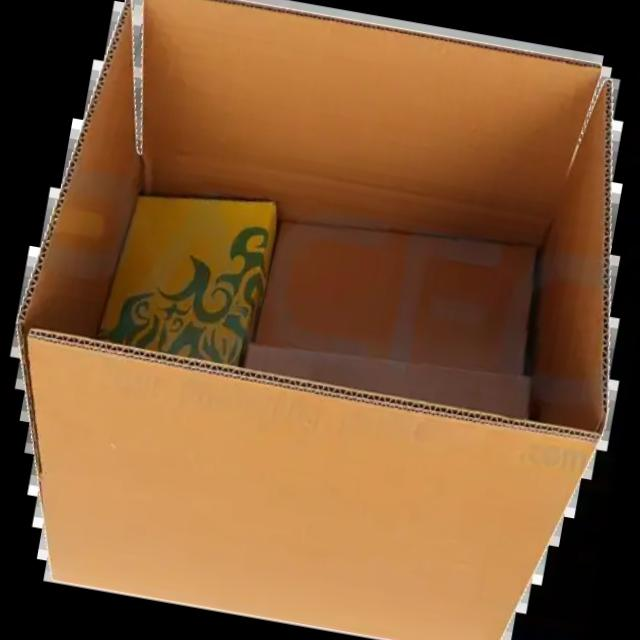cardboard_box: (7, 0, 640, 640)
